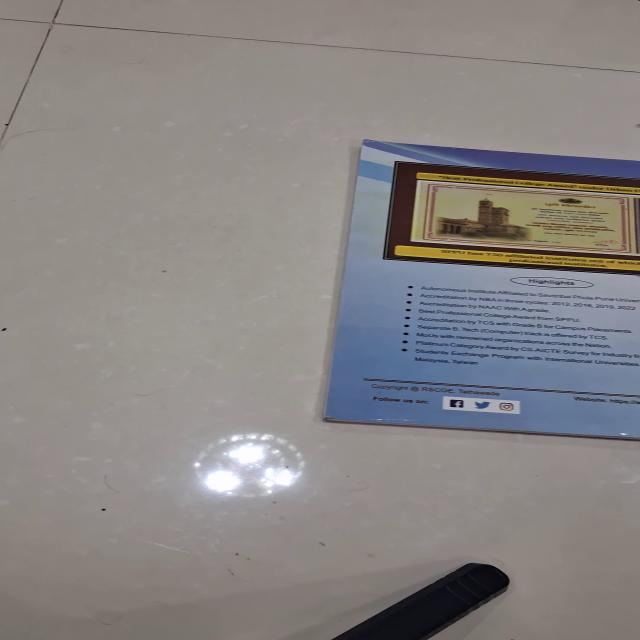paper: (321, 138, 638, 440)
